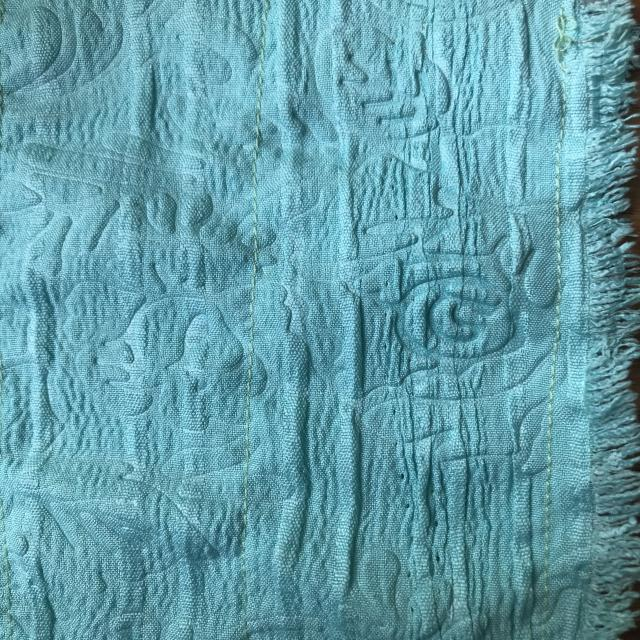good: (541, 170, 569, 277)
